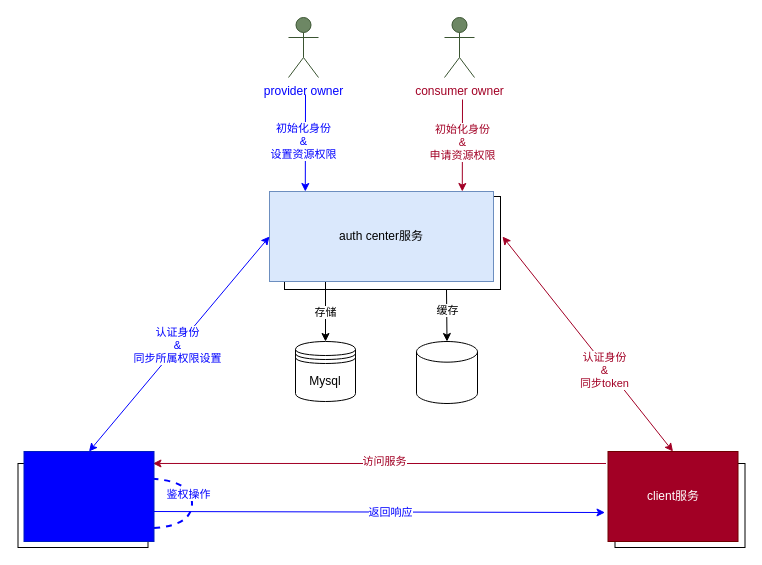
This 762x565 diagram has some shape labels left out. The shapes that lost their labels are listed below. From the top down, each one's centre as x and y in pixels, then its label:
At (447,372): "Redis".
At (88,496): "server服务".
